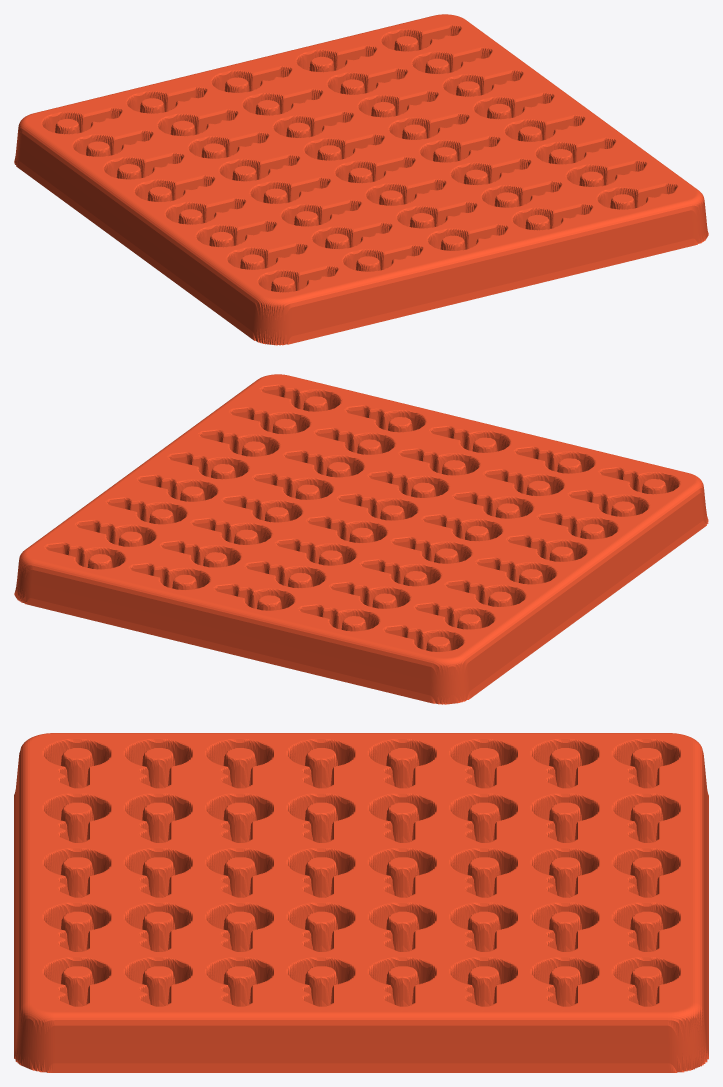
The model's file is mold.glb.
3 renders of one model, top to bottom at view 1: azimuth 30°, elevation 25°; view 2: azimuth 150°, elevation 25°; view 3: azimuth 270°, elevation 25°, orthographic. The views are drawn at different scales.
Visible parts, largest first — view 1: geometry_0; view 2: geometry_0; view 3: geometry_0.
Boxes of the visible parts, x1,y1,x2,y2 form: geometry_0: [14, 14, 708, 345]; geometry_0: [14, 374, 708, 704]; geometry_0: [14, 733, 708, 1072].
Bounding box in the file's own units: 0.1571 × 0.0136 × 0.1583.
